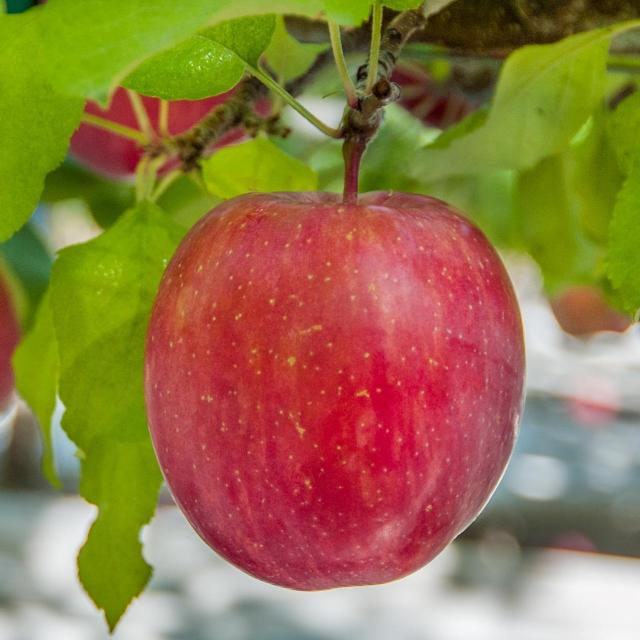Apple: (145, 150, 525, 590), (70, 122, 141, 178), (0, 279, 20, 452)
